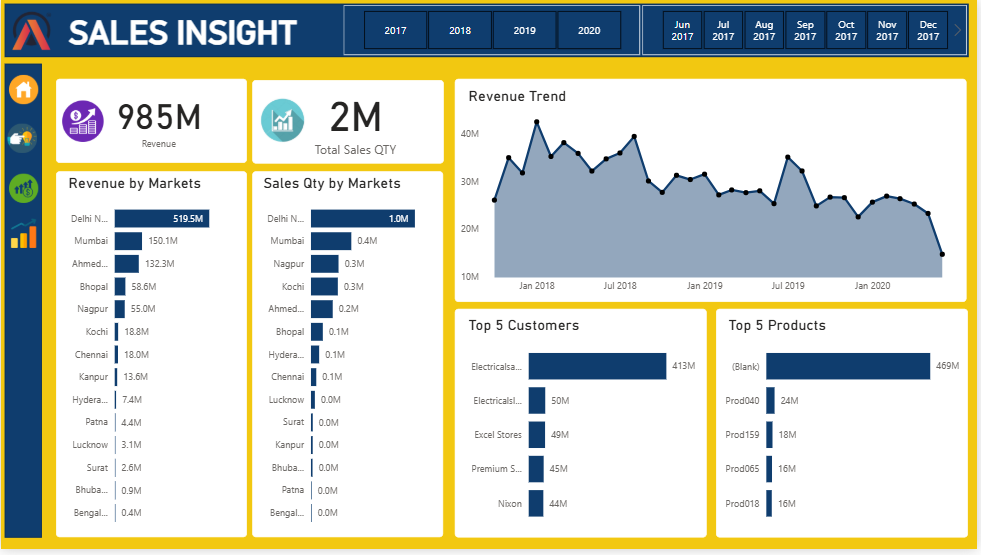

The page's visual inventory and layout, read from the dashboard file:
{"tool":"powerbi","page":{"name":"Key Insight ","canvas":[1280,720],"ordinal":1},"visuals":[{"type":"barChart","title":" ","fields":{"Category":["sales markets.markets_name"],"Y":["Profit Target.Revenue"]},"box":[71.4,224.3,250,480],"z":0},{"type":"barChart","title":"  ","fields":{"Category":["sales markets.markets_name"],"Y":["Profit Target.Total Sales QTY"]},"box":[330,224.3,250,480],"z":1000},{"type":"barChart","title":" ","fields":{"Y":["Profit Target.Revenue"],"Category":["sales customers.custmer_name"]},"box":[595.7,404.3,330,300],"z":2000},{"type":"barChart","title":" ","fields":{"Y":["Profit Target.Revenue"],"Category":["sales products.product_code"]},"box":[937.1,404.3,330,300],"z":3000},{"type":"lineChart","title":"  ","fields":{"Y":["Profit Target.Revenue"],"Category":["sales date.cy_date"]},"box":[595.7,102.9,671.4,292.9],"z":4000},{"type":"card","fields":{"Values":["Profit Target.Revenue"]},"box":[71.4,102.9,250,110],"z":5000},{"type":"card","fields":{"Values":["Profit Target.Total Sales QTY"]},"box":[329.3,105.7,251.1,109.8],"z":6000},{"type":"shape","box":[5.7,5.7,1264.3,70],"z":7000},{"type":"slicer","fields":{"Values":["sales date.year"]},"box":[448.6,7.1,388.6,65.7],"z":8000},{"type":"slicer","fields":{"Values":["sales date.cy_date"]},"box":[841.4,7.1,425.7,65.7],"z":9000},{"type":"shape","box":[5.7,82.9,48.6,621.4],"z":10000},{"type":"textbox","box":[948.6,410,288.6,37.1],"z":11000},{"type":"textbox","box":[608.6,410,288.6,37.1],"z":12000},{"type":"textbox","box":[608.6,110,288.6,37.1],"z":13000},{"type":"textbox","box":[340,224.3,288.6,37.1],"z":14000},{"type":"textbox","box":[84.3,224.3,288.6,37.1],"z":15000},{"type":"image","box":[9.6,4.1,61.7,70],"z":16000},{"type":"textbox","box":[41.2,13.7,395.2,79.6],"z":17000},{"type":"image","box":[2.7,93.3,53.5,48],"z":18000},{"type":"image","box":[0,157.8,53.5,48],"z":19000},{"type":"image","box":[2.7,223.7,53.5,48],"z":20000},{"type":"image","box":[2.7,281.3,53.5,48],"z":21000},{"type":"image","box":[253.9,107,230.5,102.9],"z":23000},{"type":"image","box":[75.5,123.5,64.5,72.7],"z":24000}]}

Visuals, with their boxes in screenshot pixels (x1, y1, x2, y2), scaled from the page's 1280x720 canvas onto the 981x555 screenshot:
" " barChart: x1=55 y1=173 x2=246 y2=543
"  " barChart: x1=253 y1=173 x2=445 y2=543
" " barChart: x1=457 y1=312 x2=709 y2=543
" " barChart: x1=718 y1=312 x2=971 y2=543
"  " lineChart: x1=457 y1=79 x2=971 y2=305
card - Profit Target.Revenue: x1=55 y1=79 x2=246 y2=164
card - Profit Target.Total Sales QTY: x1=252 y1=81 x2=445 y2=166
shape: x1=4 y1=4 x2=973 y2=58
slicer - sales date.year: x1=344 y1=5 x2=642 y2=56
slicer - sales date.cy_date: x1=645 y1=5 x2=971 y2=56
shape: x1=4 y1=64 x2=42 y2=543
textbox: x1=727 y1=316 x2=948 y2=345
textbox: x1=466 y1=316 x2=688 y2=345
textbox: x1=466 y1=85 x2=688 y2=113
textbox: x1=261 y1=173 x2=482 y2=201
textbox: x1=65 y1=173 x2=286 y2=201
image: x1=7 y1=3 x2=55 y2=57
textbox: x1=32 y1=11 x2=334 y2=72
image: x1=2 y1=72 x2=43 y2=109
image: x1=0 y1=122 x2=41 y2=159
image: x1=2 y1=172 x2=43 y2=209
image: x1=2 y1=217 x2=43 y2=254
image: x1=195 y1=82 x2=371 y2=162
image: x1=58 y1=95 x2=107 y2=151
